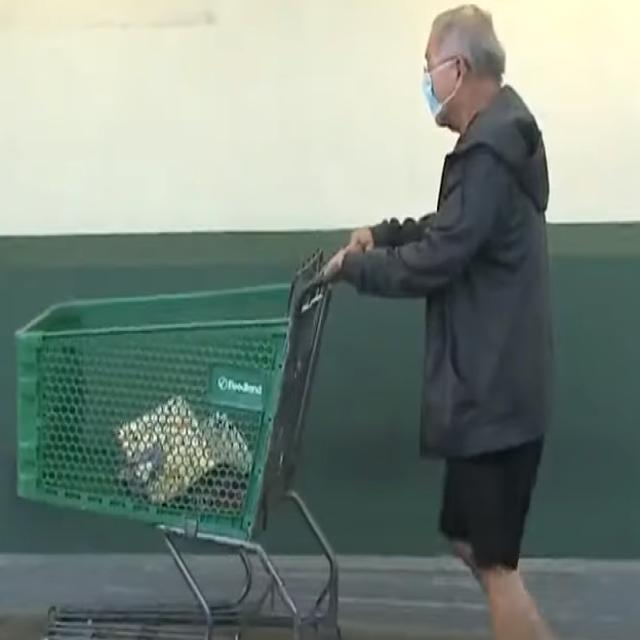mask: (391, 50, 452, 127)
